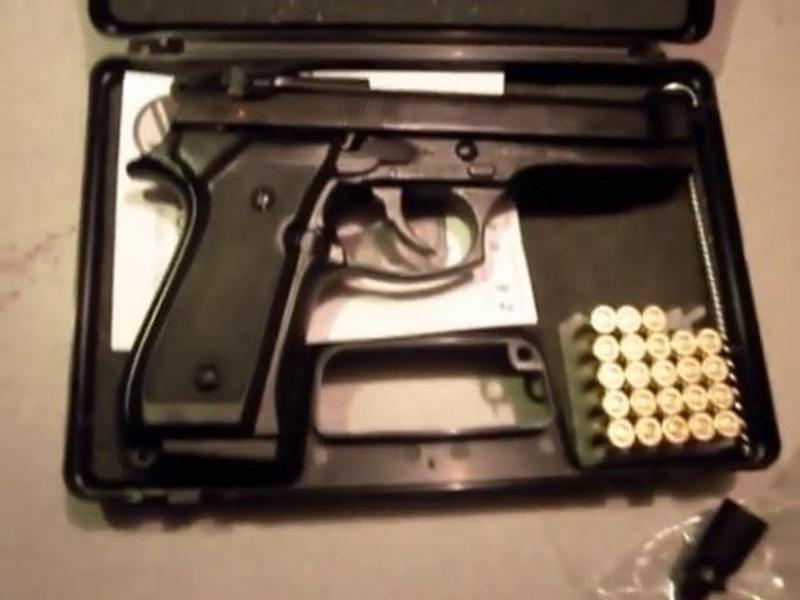Pistola: (106, 65, 705, 466)
